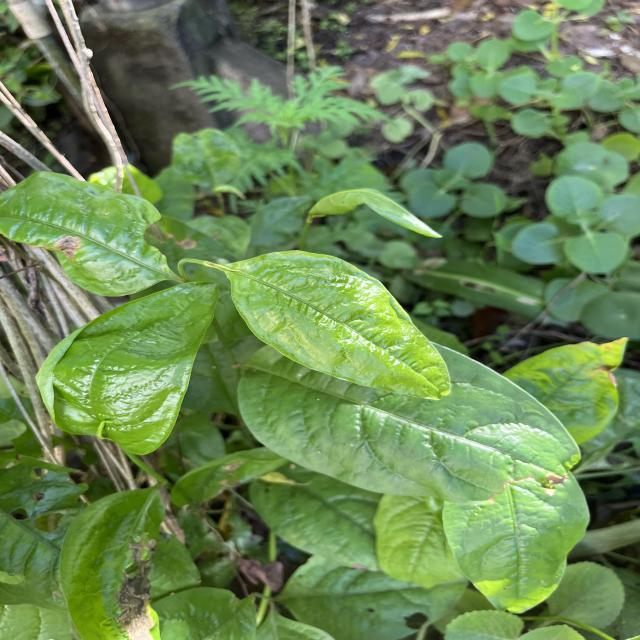Plumbago indica: (235, 341, 587, 508), (218, 247, 456, 408), (30, 277, 222, 462), (0, 165, 174, 290)
